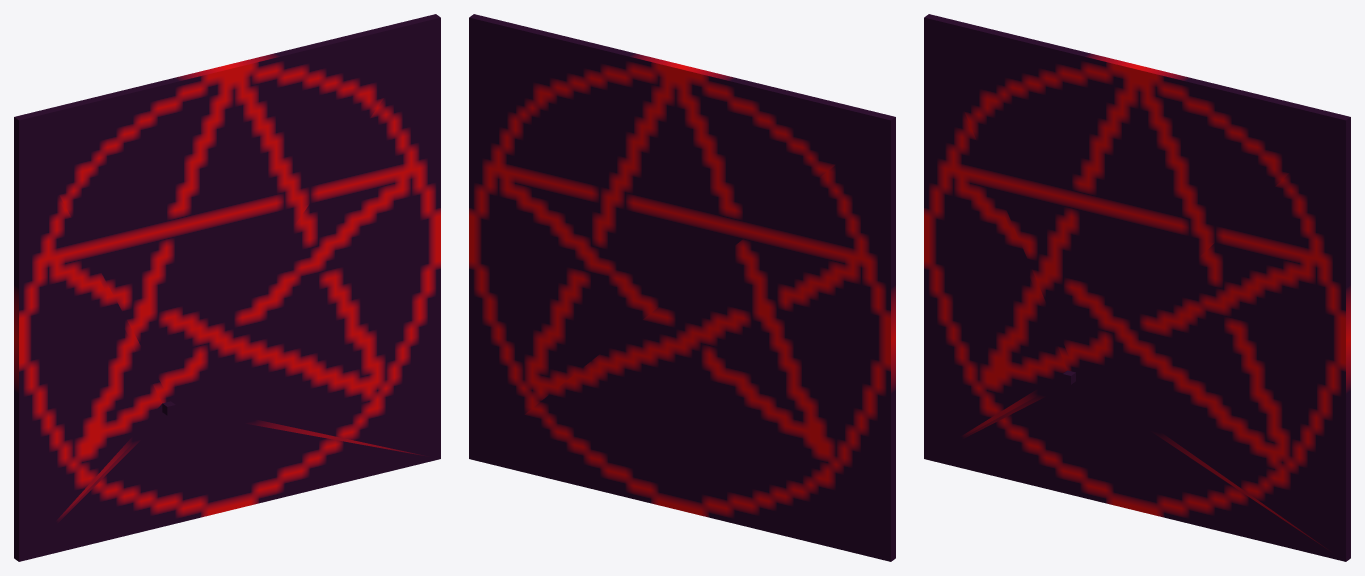
The model's file is pentagram.dae.
3 views of the same model, side by side, from view 1: azimuth 30°, elevation 25°; view 2: azimuth 150°, elevation 25°; view 3: azimuth 330°, elevation 25° (orthographic).
Visible parts, largest first — view 1: pentagram; view 2: pentagram; view 3: pentagram.
Part boxes in pixels (<box>): pentagram: <box>14,14,440,561</box>; pentagram: <box>469,14,895,561</box>; pentagram: <box>924,14,1350,561</box>.
Size of the model in its own units: 5 by 5 by 0.2.
1 material, 1 textured.
